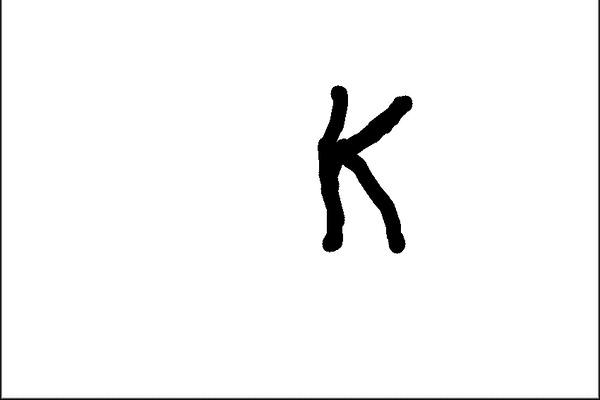K: (304, 73, 419, 259)
